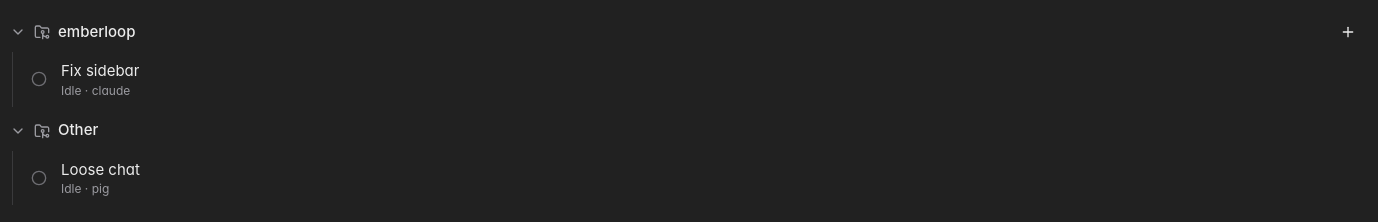
Test: ProjectList sections › collapses a Project on its header, hides its rows and keeps the state
The width and height of the screenshot is (1378, 222).
Click the button "emberloop" at point(97, 31), box [4,12,1270,52]
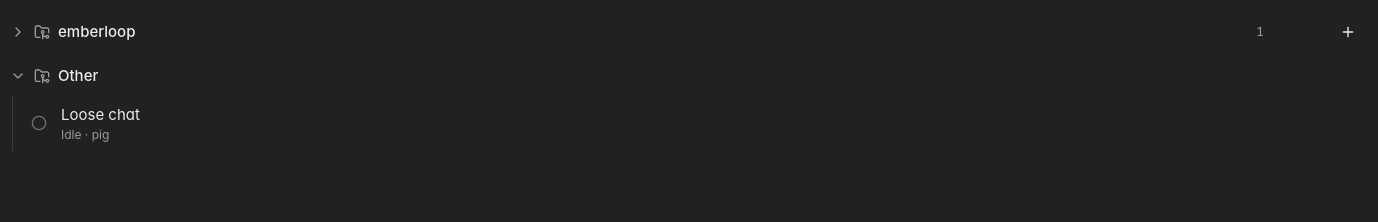
Check: the button "Fix sidebar" is gone
